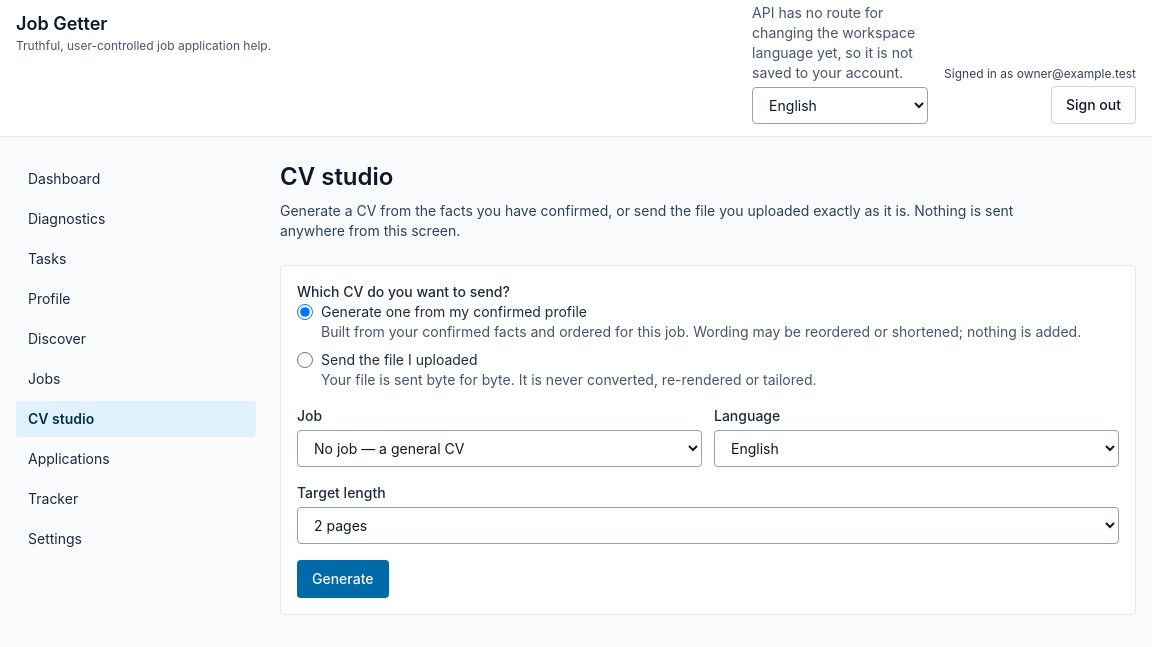
Test: generating a CV › shows the server error when generation fails
Check: the heading "CV studio" is shown, box [280,162,393,191]
What coordinates should you click on to do the following:
click the button "Generate"
I would click on:
 (343, 579)
Its box is [297,560,388,598].
(page scrolled)
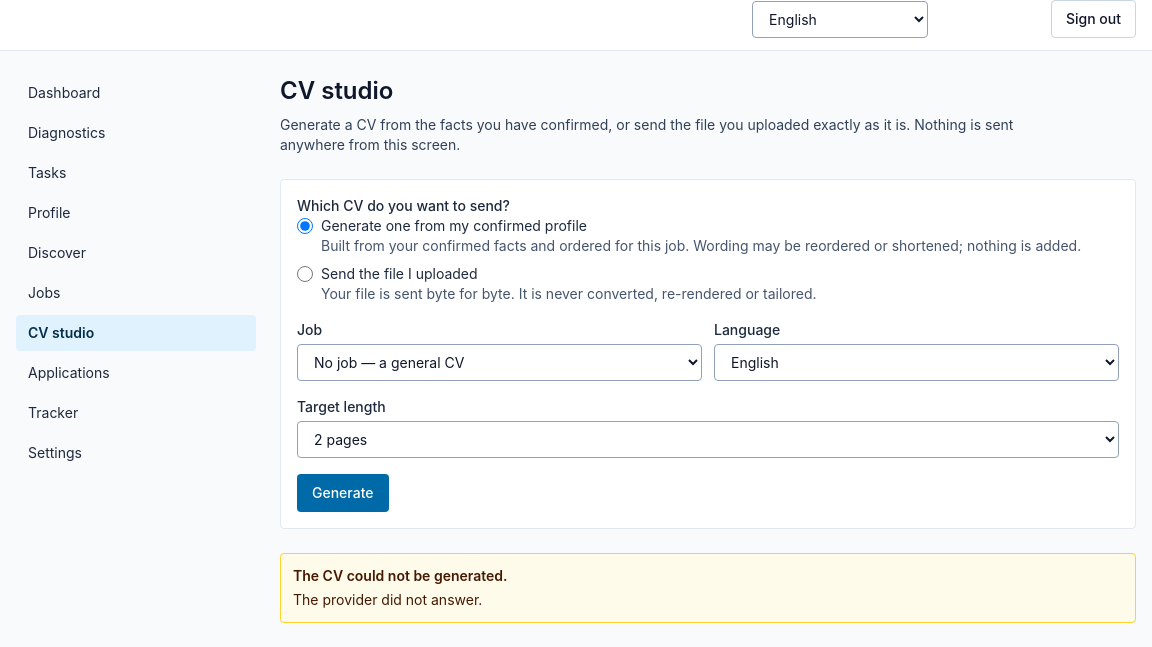
Check: the text with test id "resume-failed" reads "The provider did not answer.", box [293,591,482,608]
